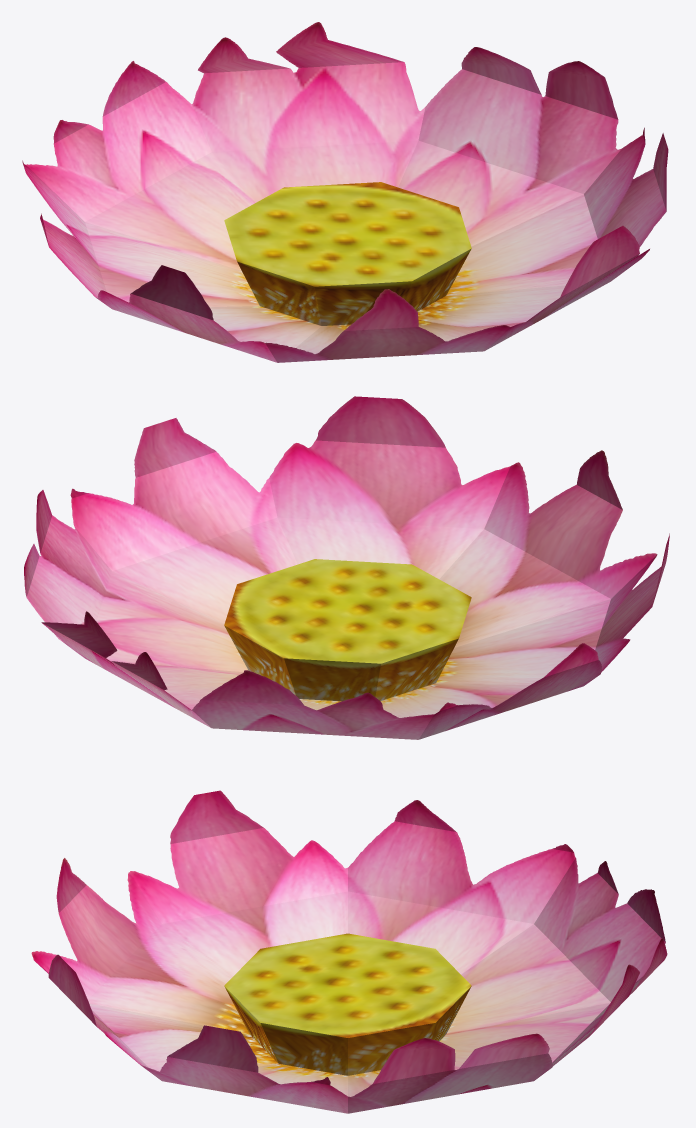
Rendered from LotusFlower.fbx.
The picture shows the model from 3 angles, top to bottom: view 1: azimuth 30°, elevation 25°; view 2: azimuth 150°, elevation 25°; view 3: azimuth 270°, elevation 25°; orthographic projection. The views are drawn at different scales.
Visible parts, largest first — view 1: Circle.001; view 2: Circle.001; view 3: Circle.001.
Boxes of the visible parts, box(x1,y1,x2,y2) form: Circle.001: box(22, 22, 668, 362); Circle.001: box(24, 396, 669, 739); Circle.001: box(31, 790, 667, 1113).
Bounding box in the file's own units: 52.6 × 10.86 × 52.6.
